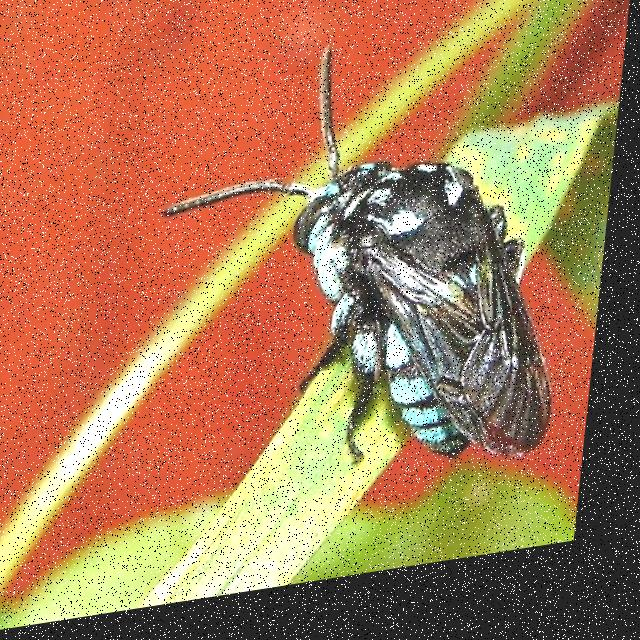Thyreus: (137, 13, 605, 534)
